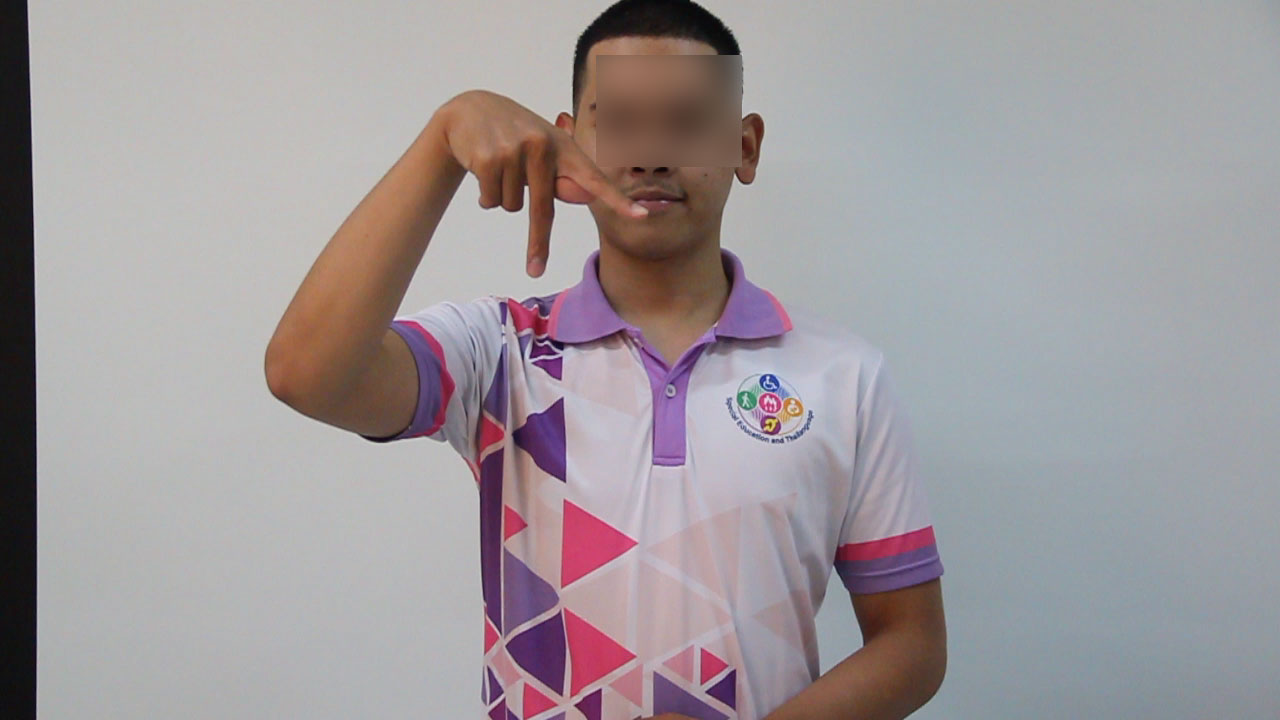por: (419, 67, 658, 280)
